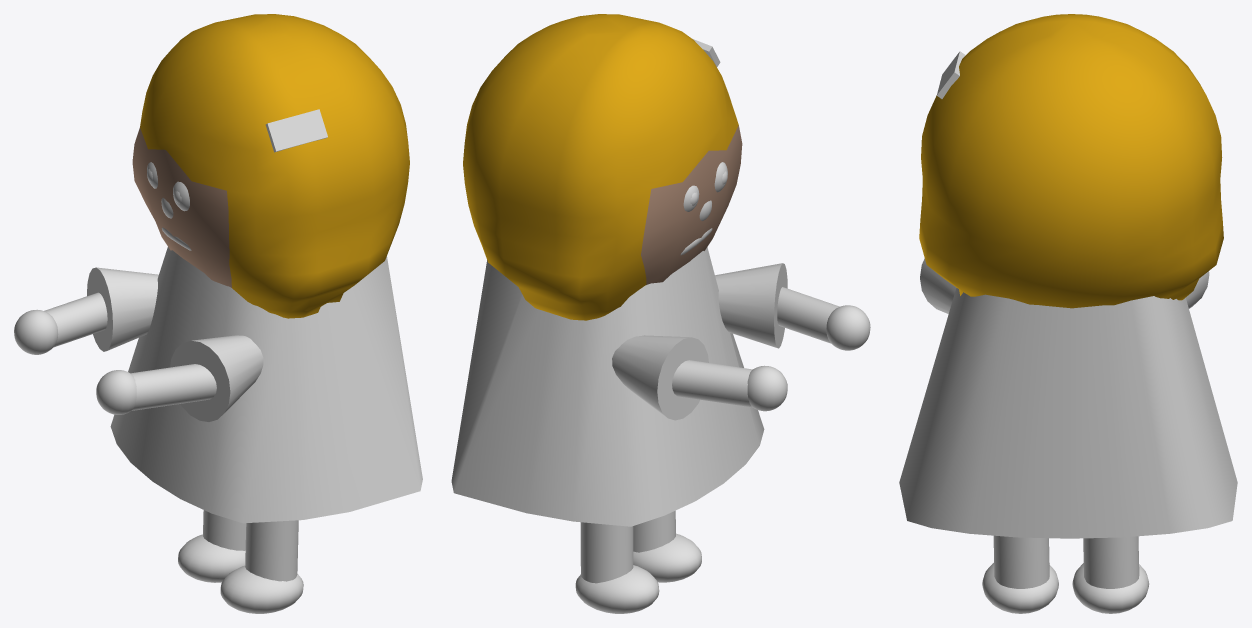
The model's file is gretelV1.fbx.
3 views of the same model, side by side, from view 1: azimuth 30°, elevation 25°; view 2: azimuth 150°, elevation 25°; view 3: azimuth 270°, elevation 25° (orthographic). The views are drawn at different scales.
Parts seen in each view (by area): view 1: pSphere1, pCylinder1, pCylinder11, pCylinder2, pCylinder21, pCylinder10, pSphere17, pSphere4, pCylinder8, pCube1, pSphere2, pSphere3 (+1 smaller); view 2: pSphere1, pCylinder1, pCylinder2, pCylinder11, pCylinder15, pCylinder8, pSphere4, pSphere17, pCylinder10, pSphere3, pSphere2, pCylinder21; view 3: pSphere1, pCylinder1, pCylinder21, pCylinder15, pSphere17, pSphere4, pCylinder11, pCube1.
Boxes of the visible parts, box(x1,y1,x2,y2) form: pSphere1: box(132, 14, 409, 318); pCylinder1: box(110, 247, 422, 523); pCylinder11: box(170, 335, 263, 421); pCylinder2: box(87, 267, 158, 351); pCylinder21: box(245, 520, 298, 581); pCylinder10: box(131, 364, 216, 410); pSphere17: box(220, 565, 303, 613); pSphere4: box(178, 534, 245, 582); pCylinder8: box(44, 292, 107, 347); pCube1: box(265, 109, 327, 152); pSphere2: box(14, 309, 58, 354); pSphere3: box(96, 370, 136, 414); pSphere1: box(463, 14, 742, 320); pCylinder1: box(451, 247, 764, 526); pCylinder2: box(612, 335, 708, 420); pCylinder11: box(715, 263, 787, 348); pCylinder15: box(580, 522, 633, 583); pCylinder8: box(672, 360, 752, 407); pSphere4: box(575, 565, 659, 613); pSphere17: box(633, 533, 701, 582); pCylinder10: box(777, 287, 839, 343); pSphere3: box(826, 305, 870, 350); pSphere2: box(747, 365, 787, 411); pCylinder21: box(633, 510, 675, 552); pSphere1: box(919, 14, 1223, 308); pCylinder1: box(899, 287, 1237, 538); pCylinder21: box(993, 535, 1049, 588); pCylinder15: box(1083, 536, 1139, 588); pSphere17: box(982, 563, 1058, 613); pSphere4: box(1072, 563, 1149, 613); pCylinder11: box(920, 258, 956, 313); pCube1: box(937, 51, 965, 98).
Bounding box in the file's own units: 27.29 × 22.32 × 42.93.
